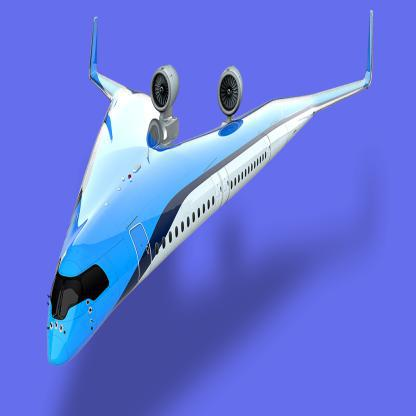CIV_Plane: (43, 9, 375, 370)
